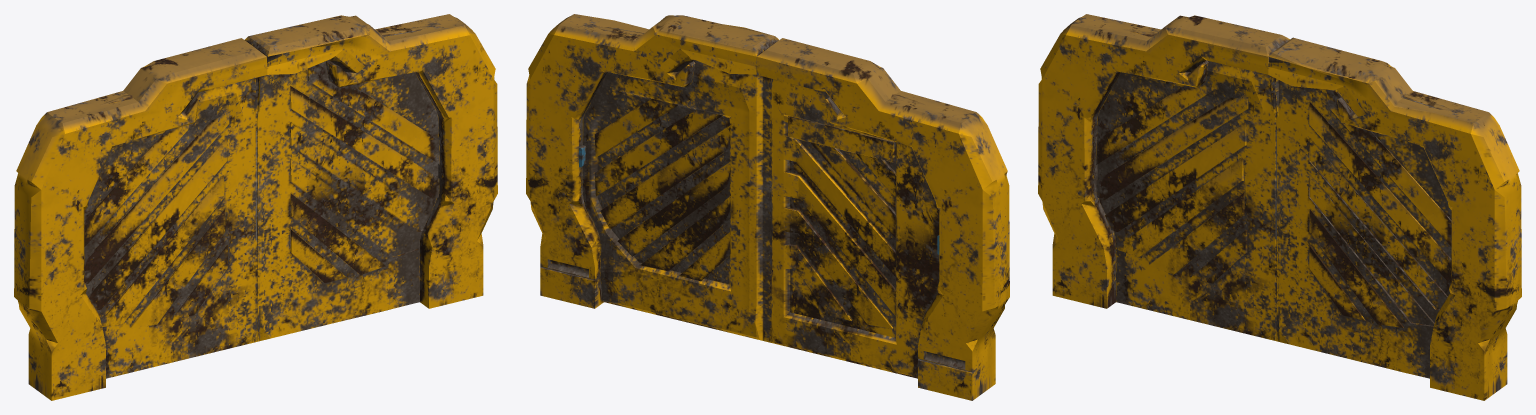
Rendered from Door_model.fbx.
3 views of the same model, side by side, from view 1: azimuth 30°, elevation 25°; view 2: azimuth 150°, elevation 25°; view 3: azimuth 330°, elevation 25° (orthographic).
Parts seen in each view (by area): view 1: pCube67; view 2: pCube67; view 3: pCube67.
Part boxes in pixels (left/top/right/bottom): pCube67: left=14, top=14, right=497, bottom=400; pCube67: left=526, top=14, right=1009, bottom=400; pCube67: left=1038, top=14, right=1521, bottom=400.
Bounding box in the file's own units: 11.75 × 7.14 × 1.18.
